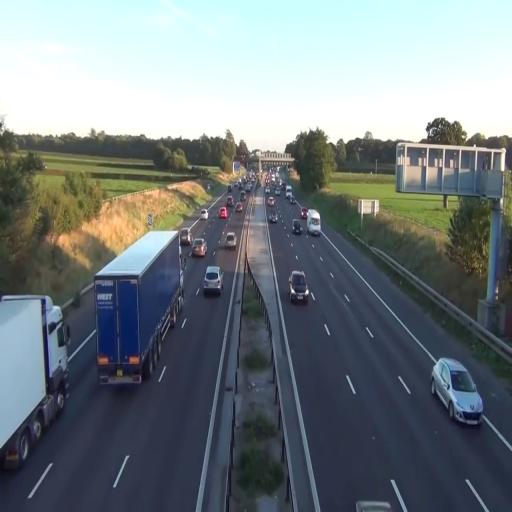vehicle: (95, 228, 183, 386), (0, 296, 70, 472), (431, 357, 484, 426), (288, 270, 310, 303), (202, 265, 223, 296), (192, 238, 207, 259), (222, 229, 237, 249), (292, 219, 302, 235)
